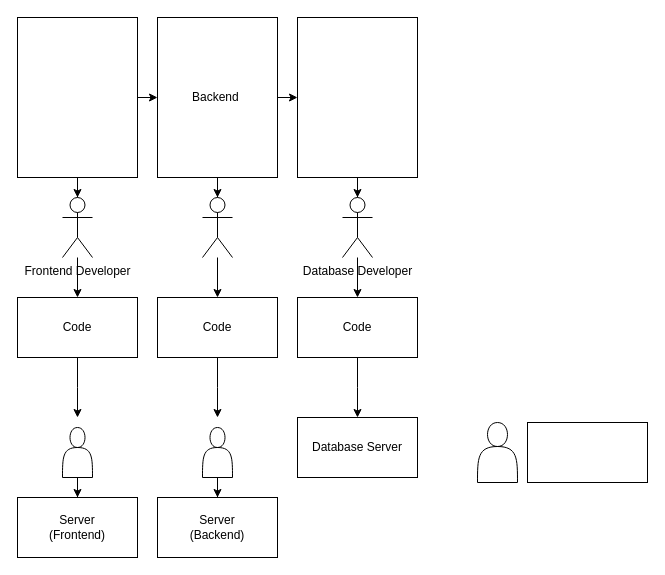
Image size: 665x575. Some labels were removed from this diagram. Here are the shapes that lost their labels. From the top down, the box of each, then its label:
(16, 16, 138, 178): UI - User Interface Frontend
(296, 16, 418, 178): Database
(202, 196, 232, 258): Backend Developer
(526, 422, 648, 482): Devops Engineer
